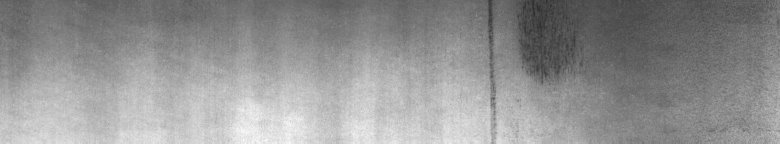ka: (480, 4, 589, 136)
